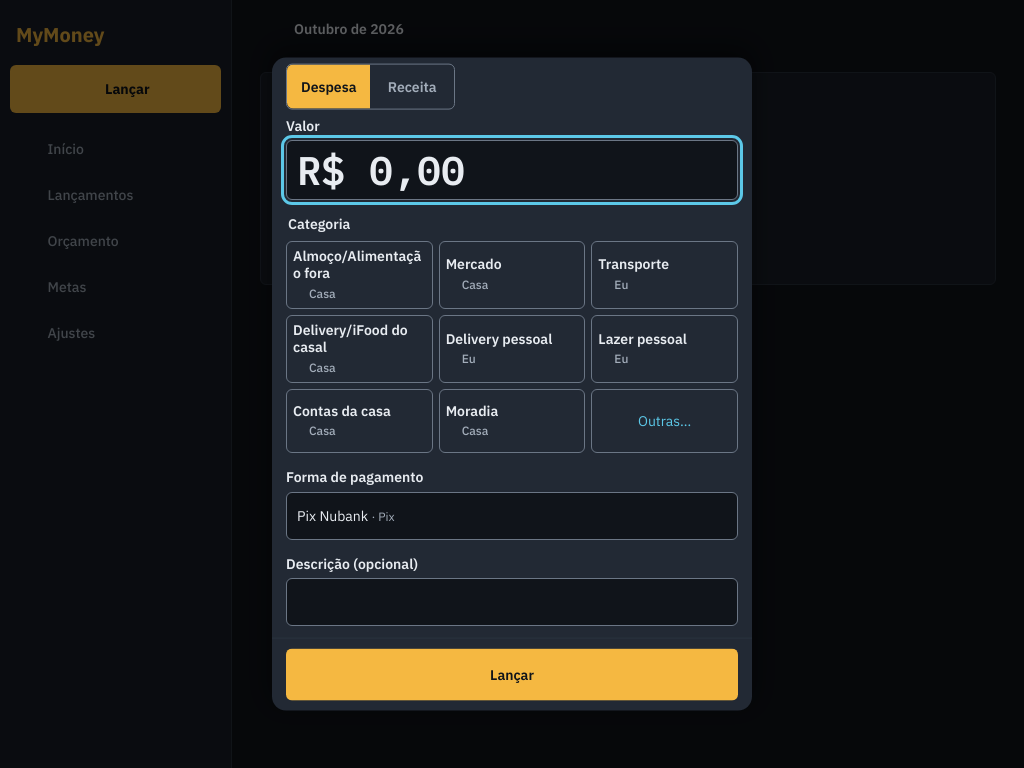
Test: validação no envio › envio vazio mostra os 2 erros, anuncia o do valor e foca o valor
Check: the element "Categoria" is shown, box [286,214,738,453]
Click the button "Lançar" at (512, 674), box [286,648,738,700]
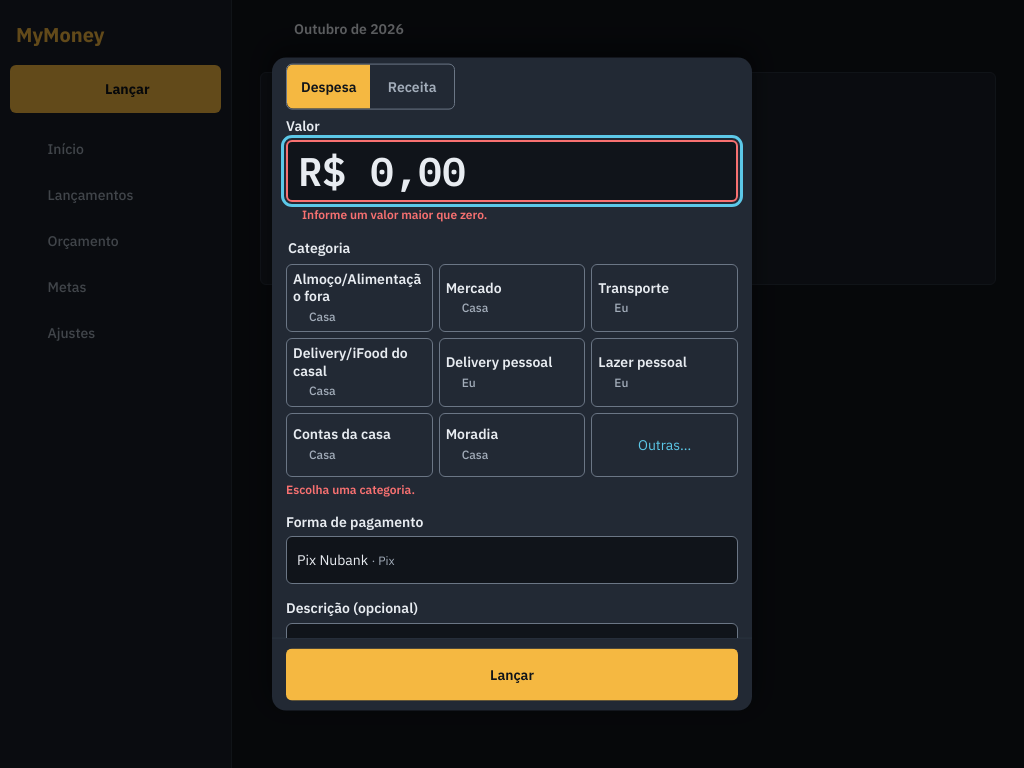
Check: the message reads "Informe um valor maior que zero.", box [302,207,487,222]
Check: the text "Escolha uma categoria." is shown, box [286,481,415,496]
